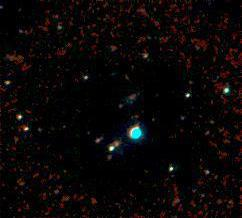star: (210, 75, 240, 105)
